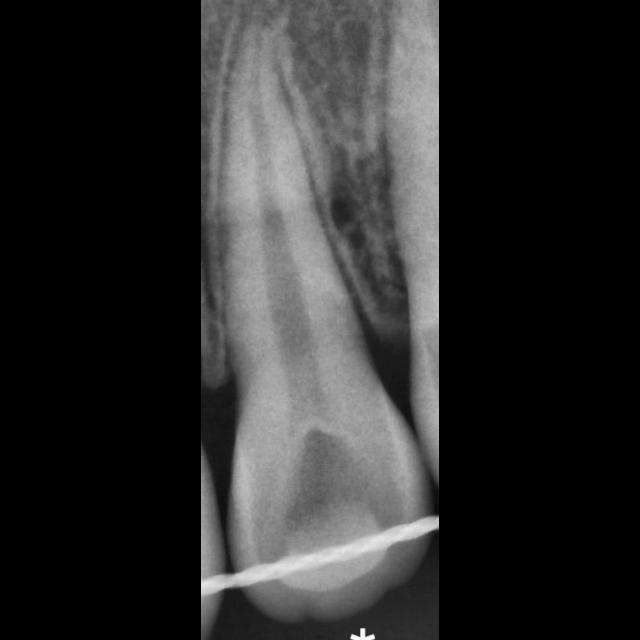tooth: (223, 20, 431, 625)
